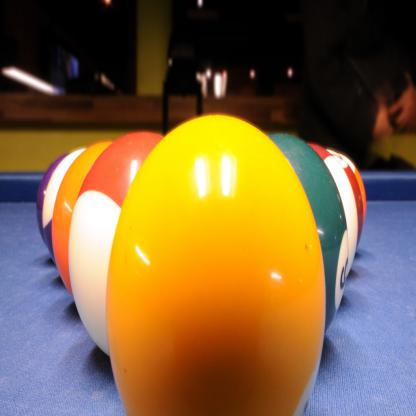Ball: (36, 116, 367, 415)
